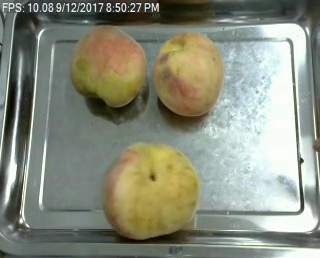Peach: (102, 141, 200, 240), (69, 24, 145, 107), (154, 30, 224, 115)
